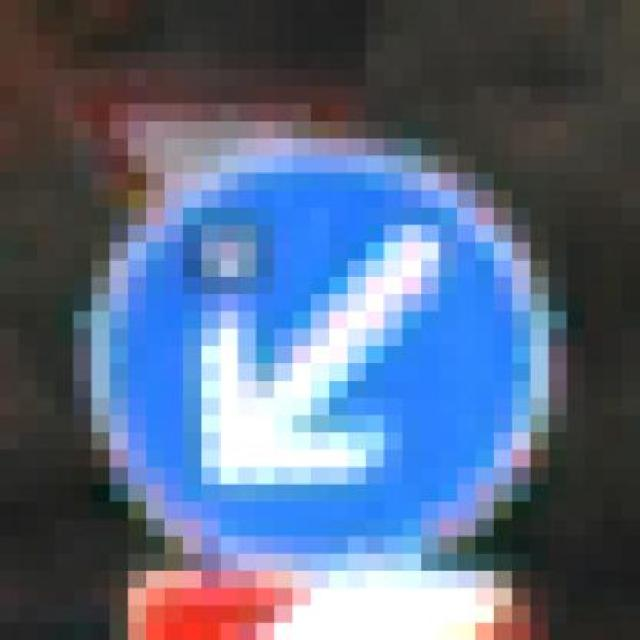Keep-Left: (54, 155, 586, 571)
